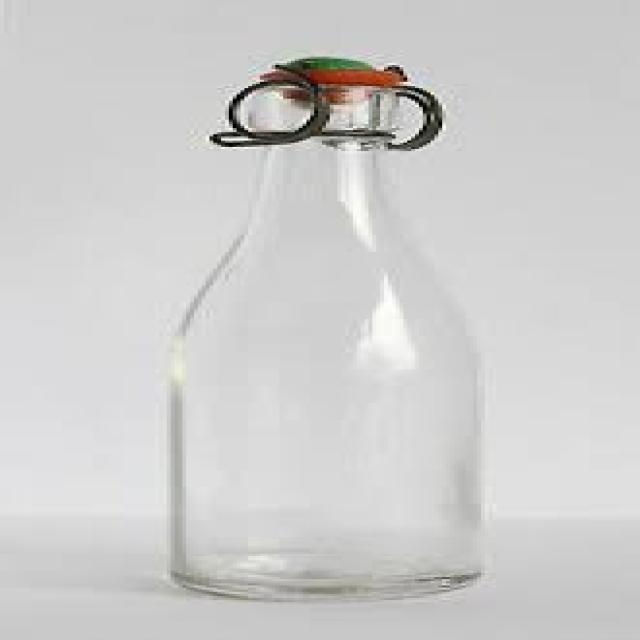bottle: (171, 59, 480, 600)
metal: (210, 66, 442, 151)
